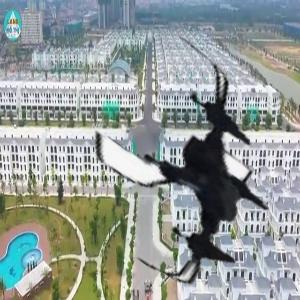drone: (67, 50, 296, 279)
